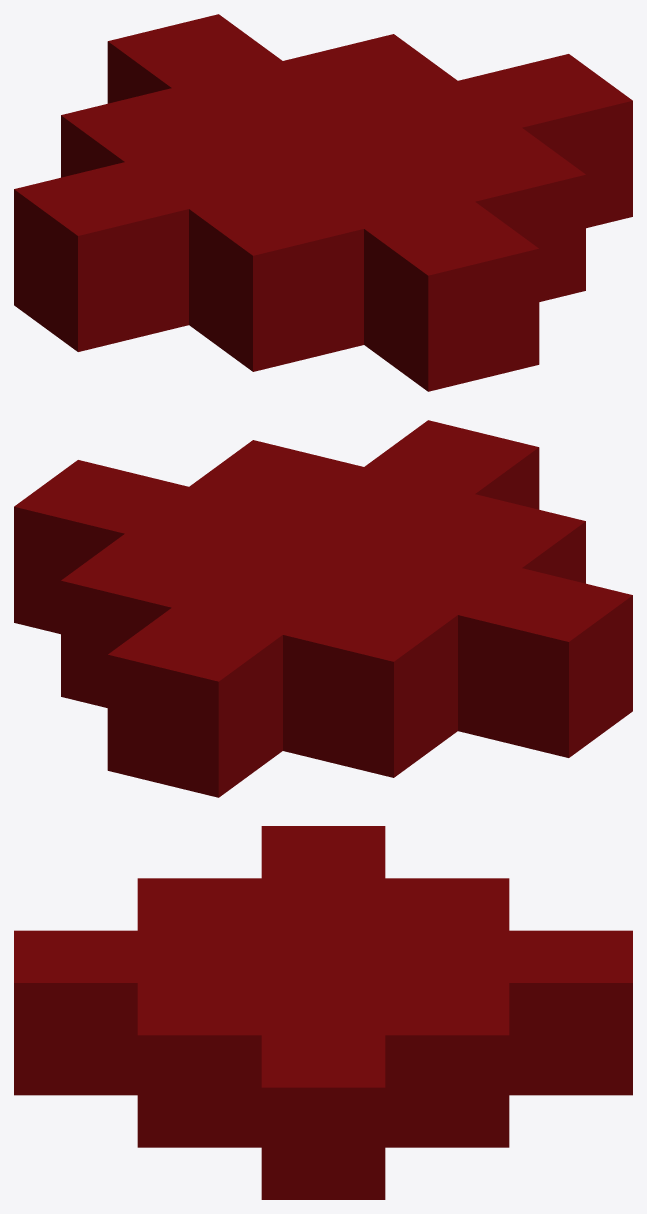
Rendered from eagle feathers.obj.
The picture shows the model from 3 angles, top to bottom: view 1: azimuth 30°, elevation 25°; view 2: azimuth 150°, elevation 25°; view 3: azimuth 270°, elevation 25°; orthographic projection. The views are drawn at different scales.
Size of the model in its own units: 5 by 1 by 5.
Materials: 1 (1 with a texture image).
